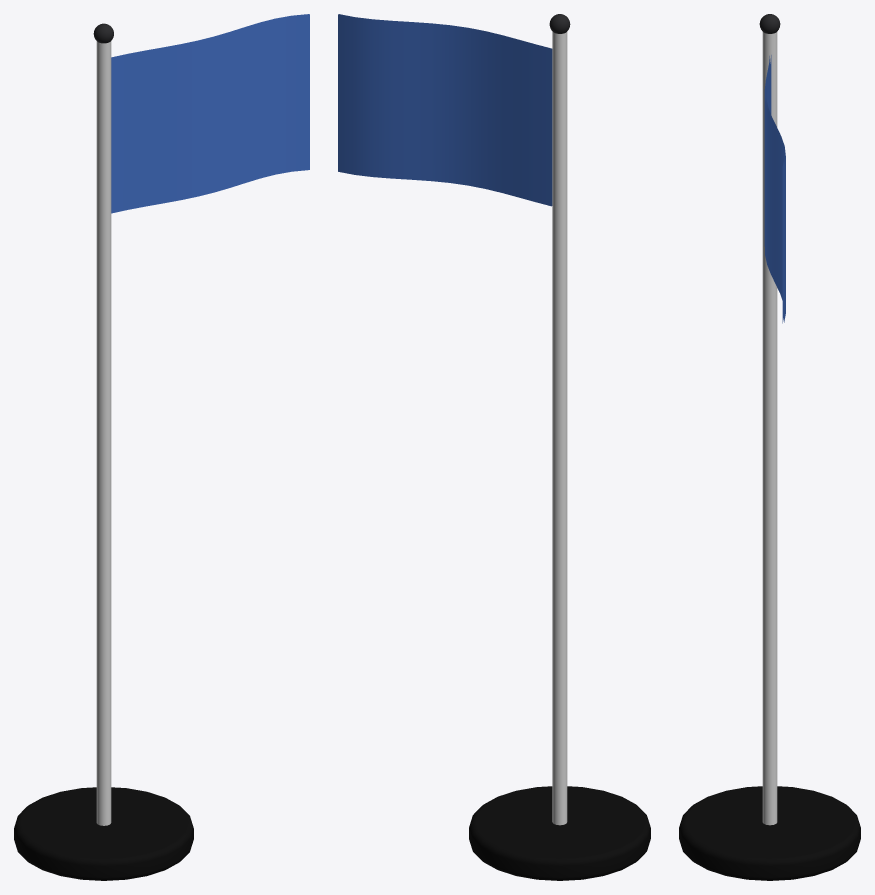
File: sport.circuit.flag_blue.glb
3 renders of one model, left to right at view 1: azimuth 30°, elevation 25°; view 2: azimuth 150°, elevation 25°; view 3: azimuth 270°, elevation 25°, orthographic.
Parts seen in each view (by area): view 1: main__paint_47c, main__rubber, main__galv_eee; view 2: main__paint_47c, main__rubber, main__galv_eee; view 3: main__rubber, main__galv_eee, main__paint_47c.
Part boxes in pixels (x1,y1,x2,y2): main__paint_47c: (111,14,309,213); main__rubber: (14,787,193,880); main__galv_eee: (96,41,111,825); main__paint_47c: (338,14,552,206); main__rubber: (469,786,650,880); main__galv_eee: (552,31,567,825); main__rubber: (679,786,860,880); main__galv_eee: (762,32,777,825); main__paint_47c: (764,55,785,323).
Size of the model in its own units: 0.82 by 2.22 by 0.44.
